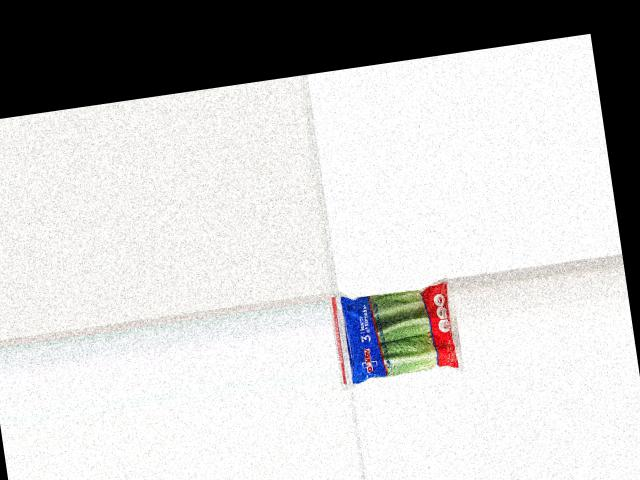lettuce: (335, 280, 464, 389)
